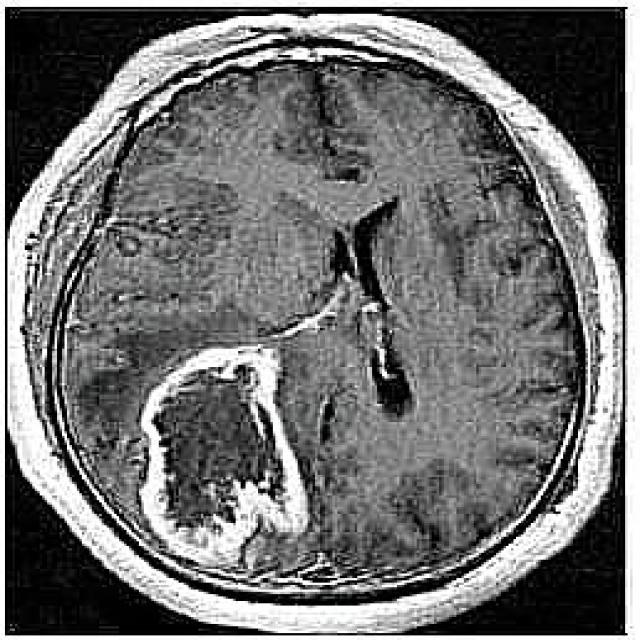Tumor-Cell: (127, 339, 330, 546)
